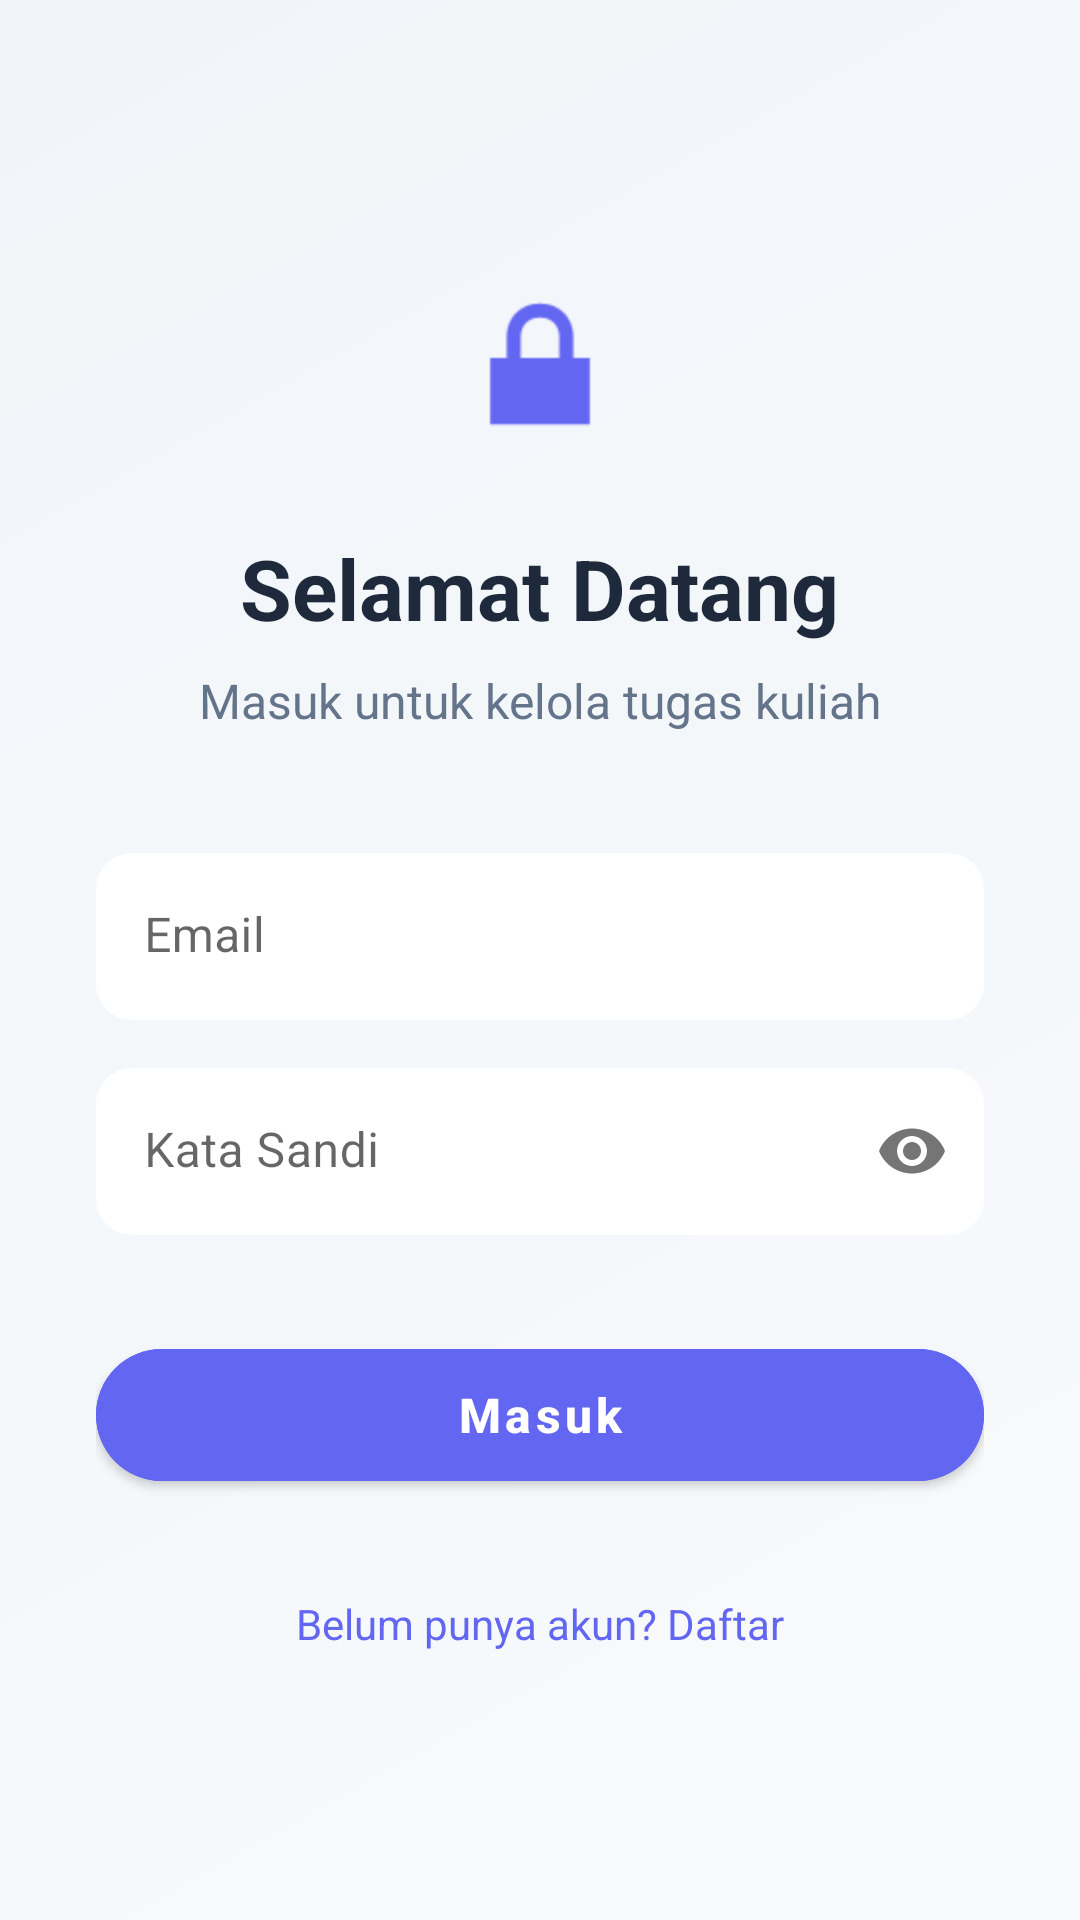

Screen size 1080 × 1920. Icon name, then its center in pixels as (x=x, y=y):
Login Icon: (x=540, y=364)
